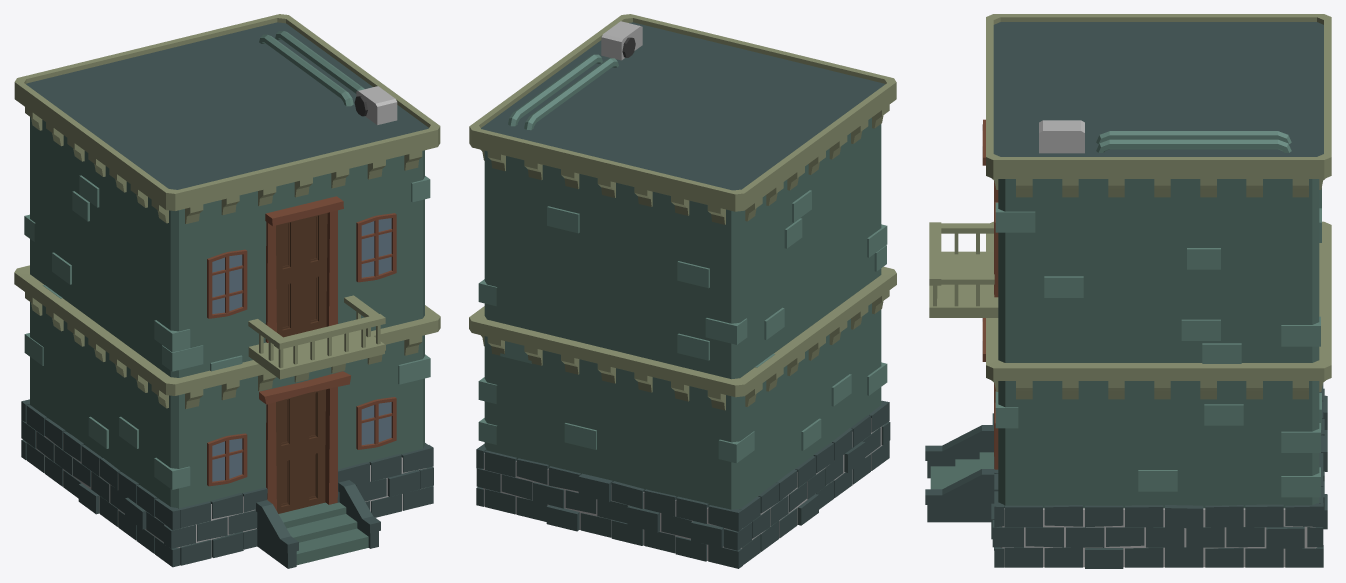
File: 2Story_Balcony_Mat.glb
3 renders of one model, left to right at view 1: azimuth 30°, elevation 25°; view 2: azimuth 150°, elevation 25°; view 3: azimuth 270°, elevation 25°, orthographic. The views are drawn at different scales.
Visible parts, largest first — view 1: 2Story_Balcony_Mat; view 2: 2Story_Balcony_Mat; view 3: 2Story_Balcony_Mat.
Boxes of the visible parts, box(x1,y1,x2,y2) form: 2Story_Balcony_Mat: box(14, 14, 440, 568); 2Story_Balcony_Mat: box(469, 14, 896, 568); 2Story_Balcony_Mat: box(925, 14, 1331, 568).
Bounding box in the file's own units: 2.16 × 2.94 × 2.53.
